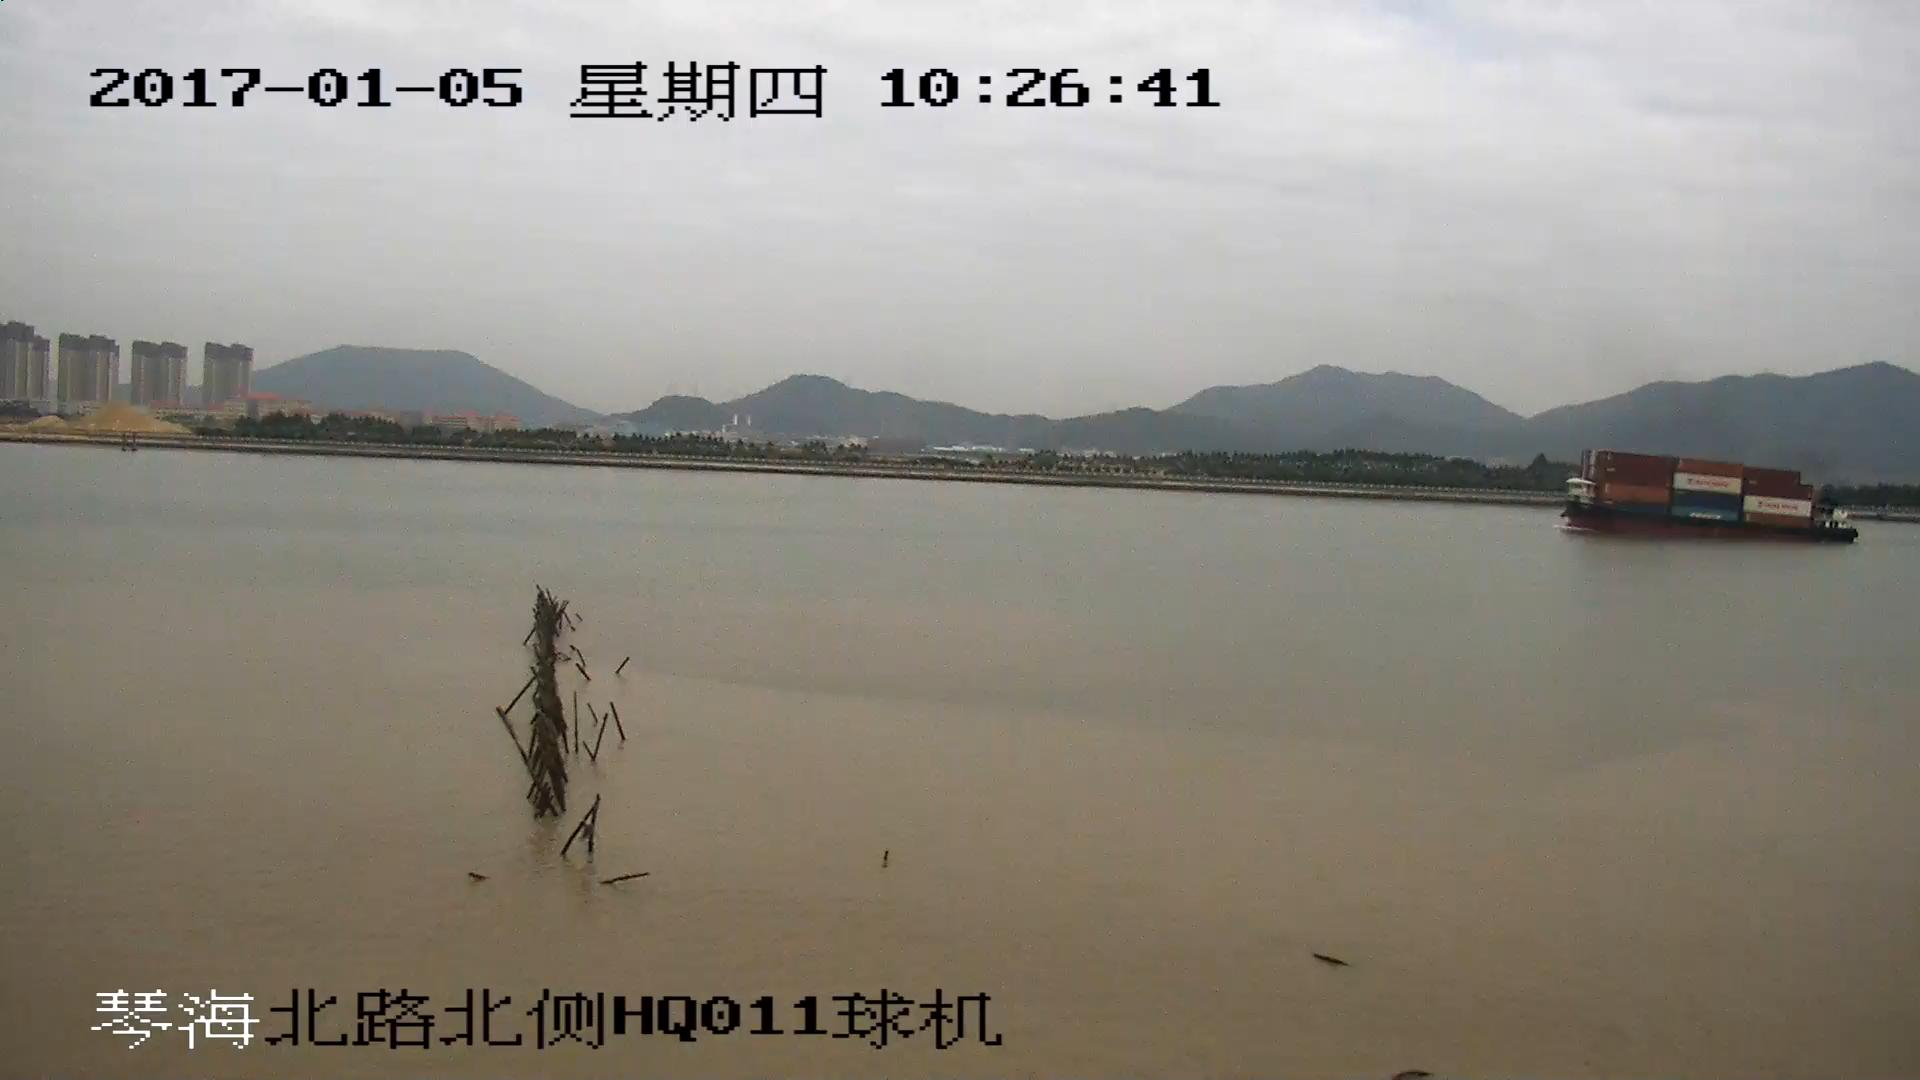container ship: (1564, 452, 1854, 544)
